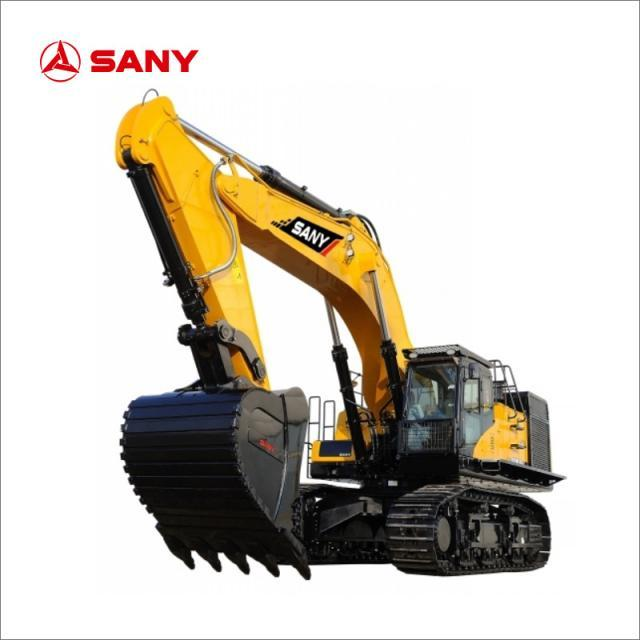C_E: (115, 95, 563, 588)
